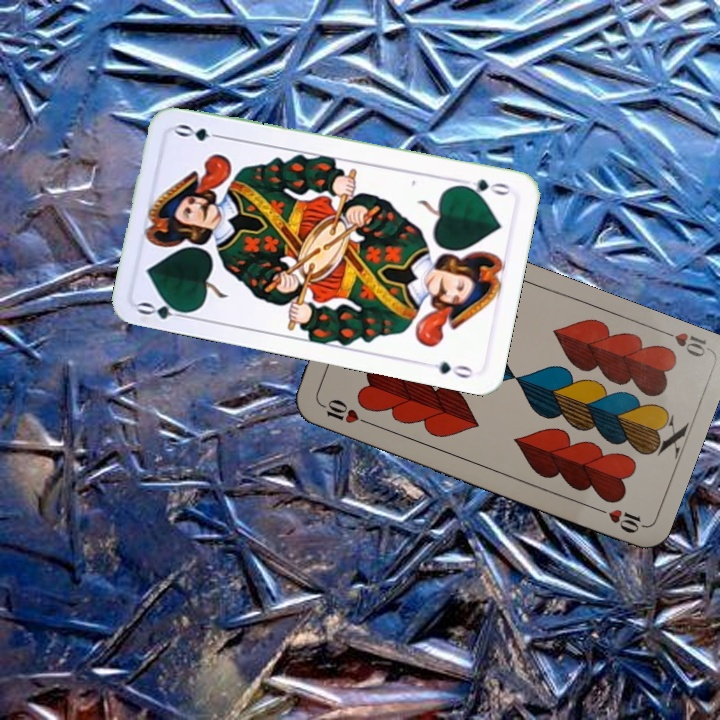GO: (134, 294, 194, 322), (455, 175, 513, 198)
H10: (654, 325, 711, 360), (316, 395, 373, 428)
